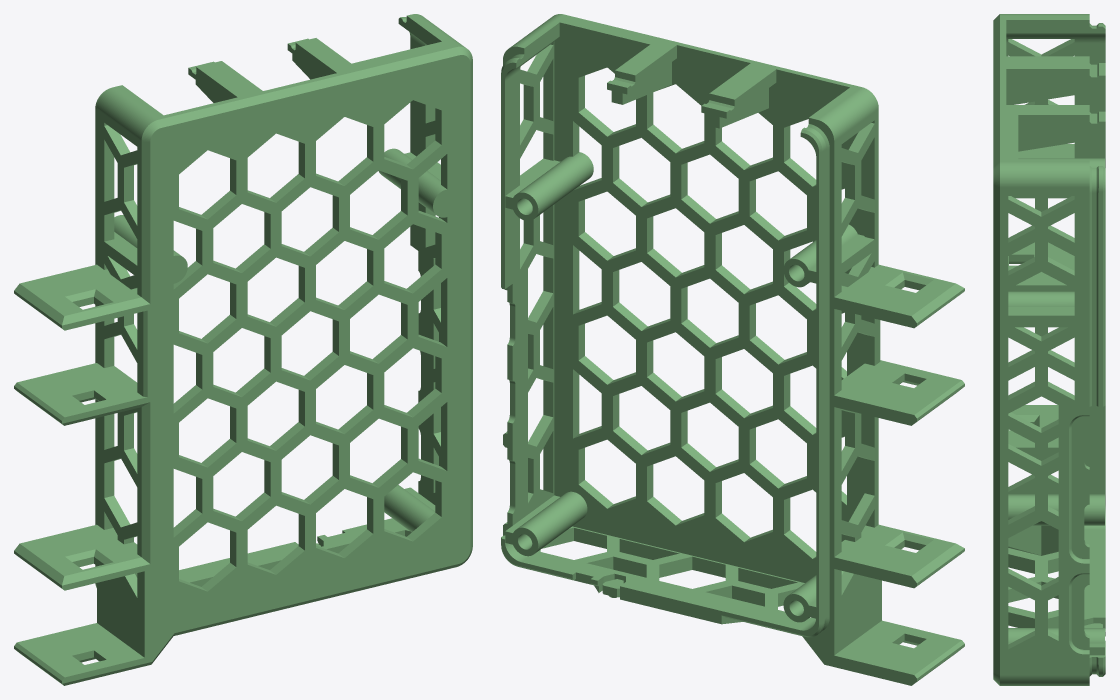
The model's file is other-homeracker-pi5-case-2.glb.
3 renders of one model, left to right at view 1: azimuth 30°, elevation 25°; view 2: azimuth 150°, elevation 25°; view 3: azimuth 270°, elevation 25°, orthographic.
Visible parts, largest first — view 1: HomeRacker+-+Pi5+Case.3mf; view 2: HomeRacker+-+Pi5+Case.3mf; view 3: HomeRacker+-+Pi5+Case.3mf.
Part boxes in pixels (x1,y1,x2,y2): HomeRacker+-+Pi5+Case.3mf: (14,14,472,685); HomeRacker+-+Pi5+Case.3mf: (501,14,964,685); HomeRacker+-+Pi5+Case.3mf: (993,14,1105,685).
Bounding box in the file's own units: 75 × 94 × 17.5.
